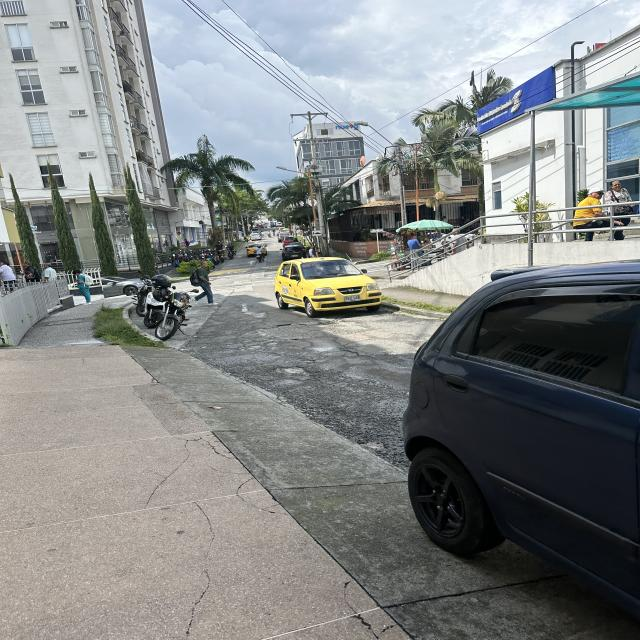number plate: (344, 294, 360, 302)
